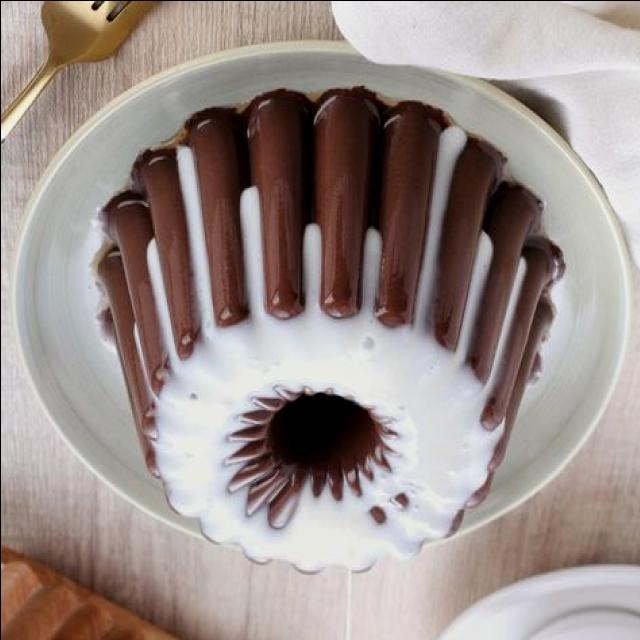puding: (93, 79, 562, 568)
